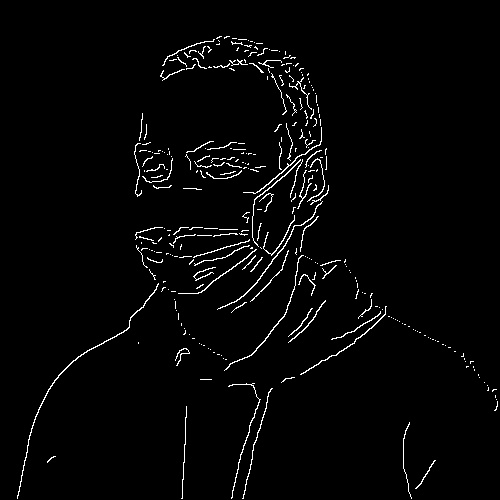mask: (128, 190, 278, 305)
